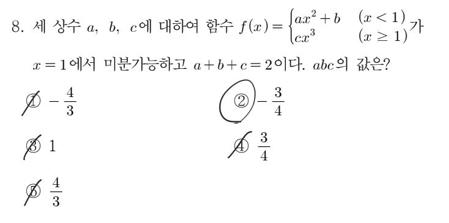1: (217, 76, 258, 126)
paper: (22, 90, 43, 111), (22, 135, 43, 156), (22, 179, 43, 200), (232, 90, 252, 111), (230, 135, 250, 156)
